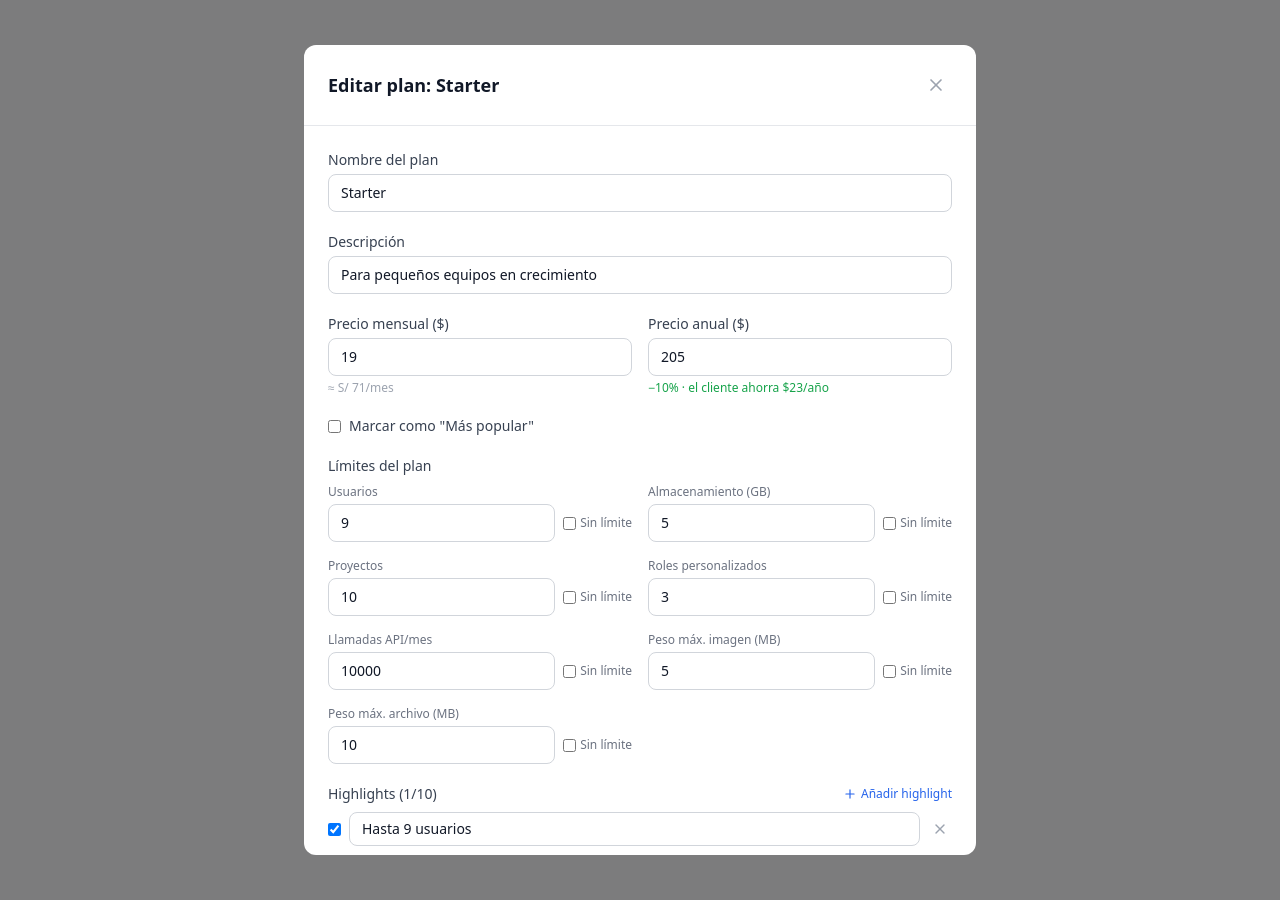
PlanEditModal — errores del backend › pinta el error de campo del backend y NO cierra el modal
This screenshot has width=1280, height=900.
Replace the text in the number field labelled "Precio anual ($)" with "200" at (800, 357), box 648,338 -> 952,376
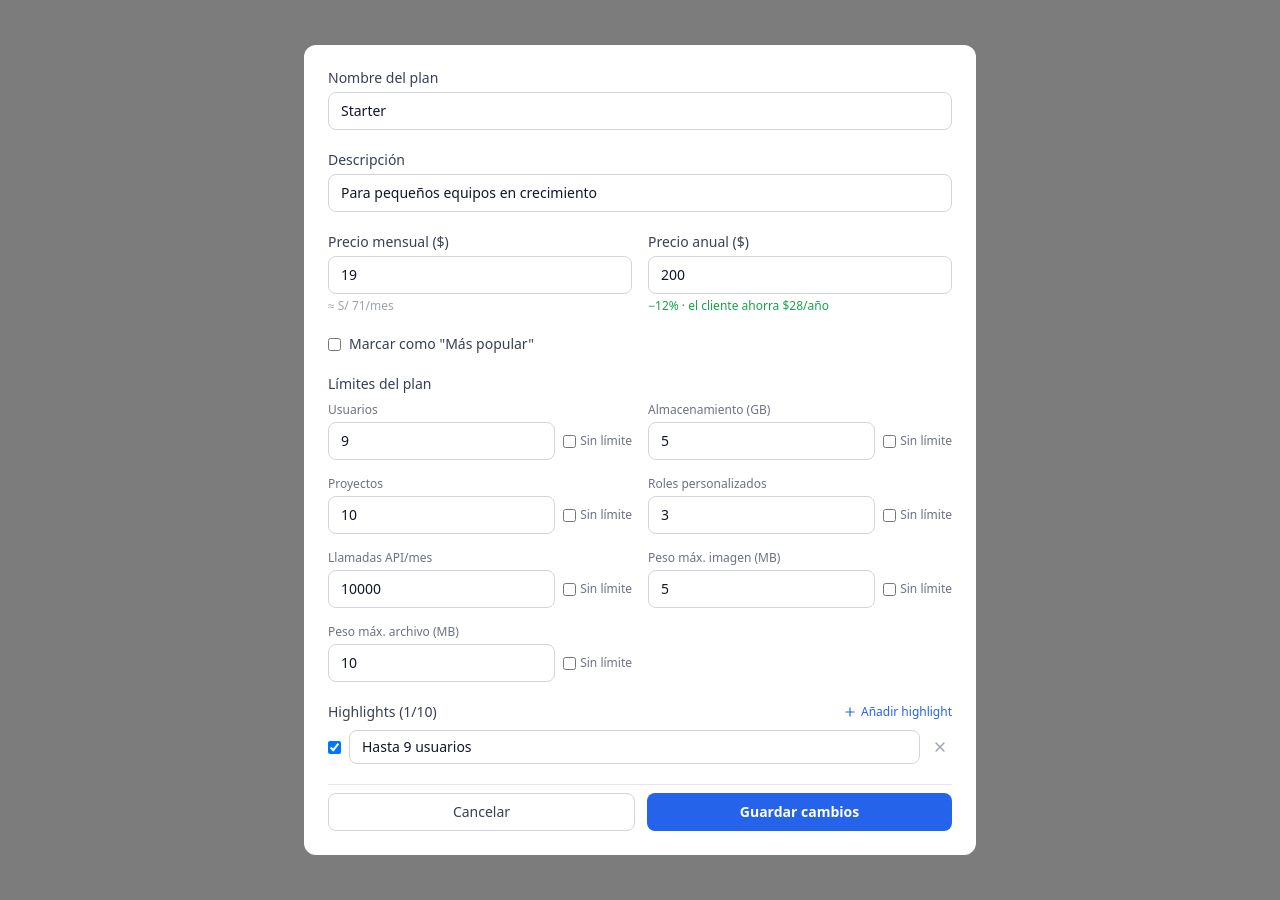
Click the button "Guardar cambios".
click(800, 812)  # box 647,793 -> 952,831
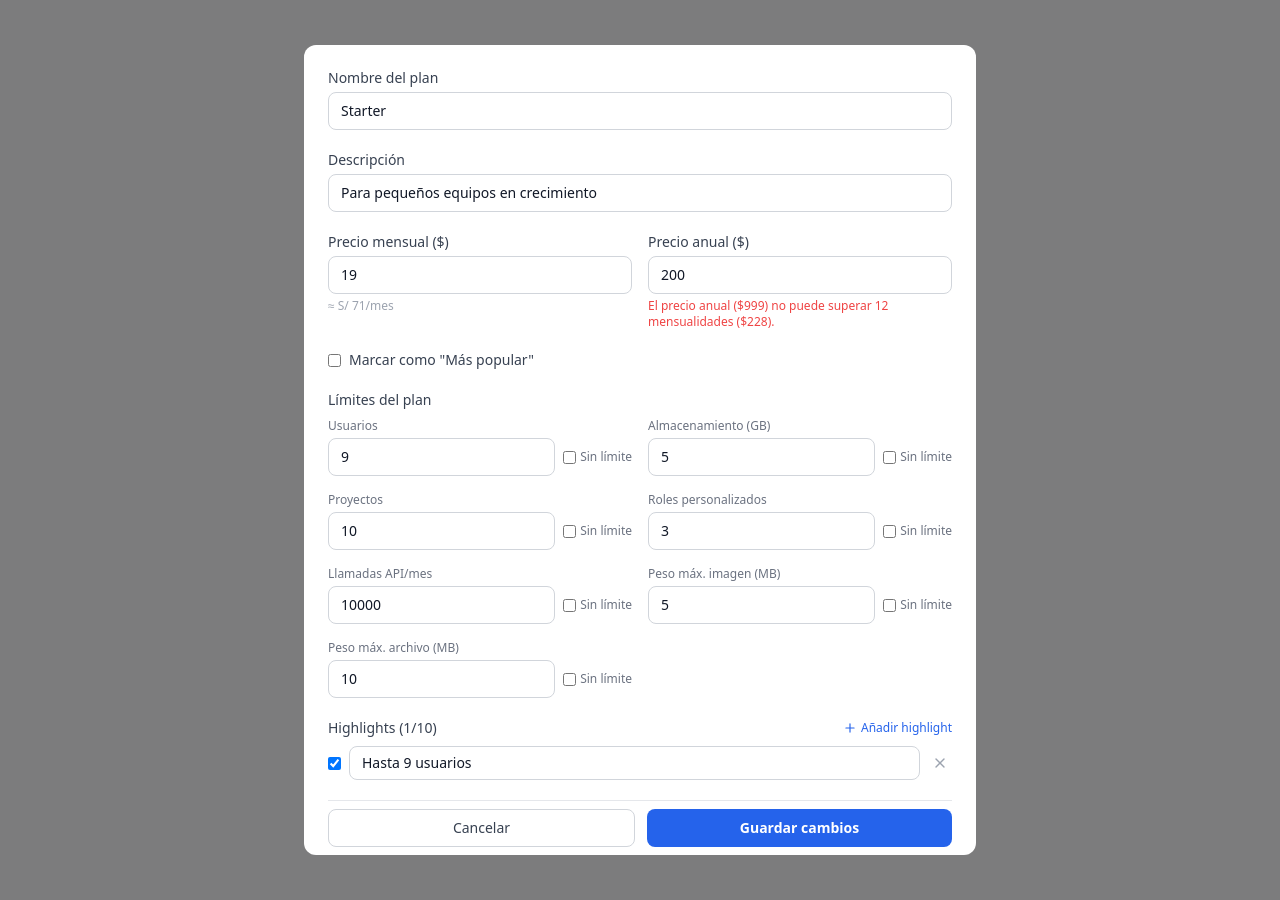
Now the text "El precio anual ($999)" is shown, box 648,297 -> 888,330
